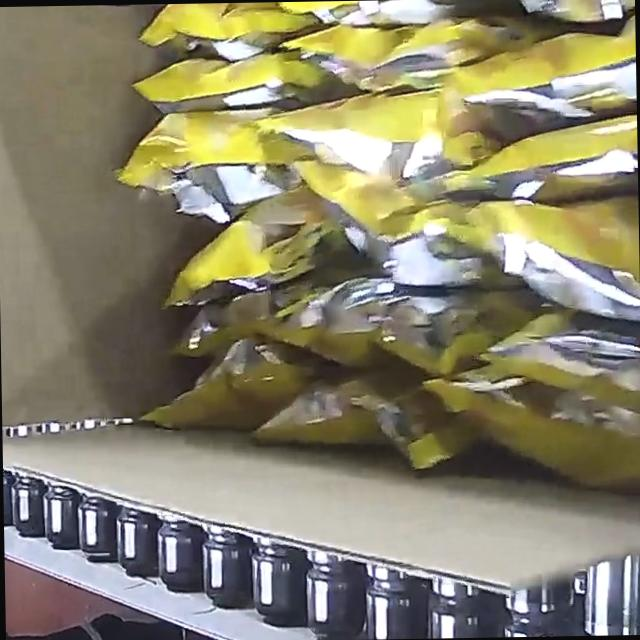salted: (106, 0, 640, 505)
